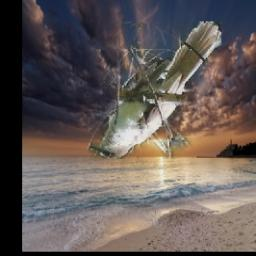Cuckoo: (87, 22, 220, 160)
